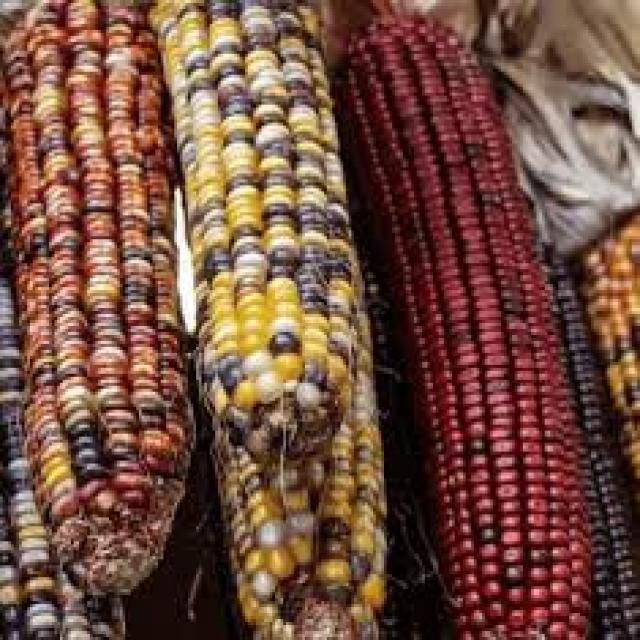discolored corn: (344, 13, 622, 596), (154, 0, 403, 623), (4, 0, 188, 564)
